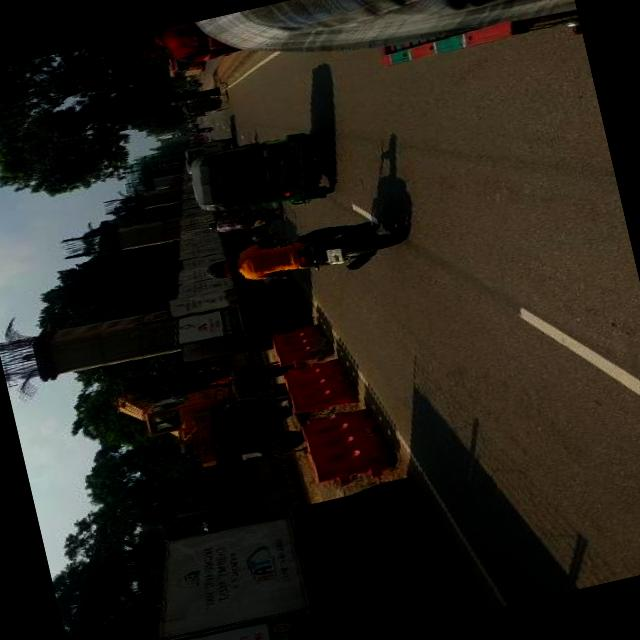bus: (160, 50, 202, 80)
motorcycle: (182, 126, 331, 225), (263, 200, 407, 286), (225, 199, 281, 233), (178, 90, 226, 118)
truck: (178, 133, 230, 157)
